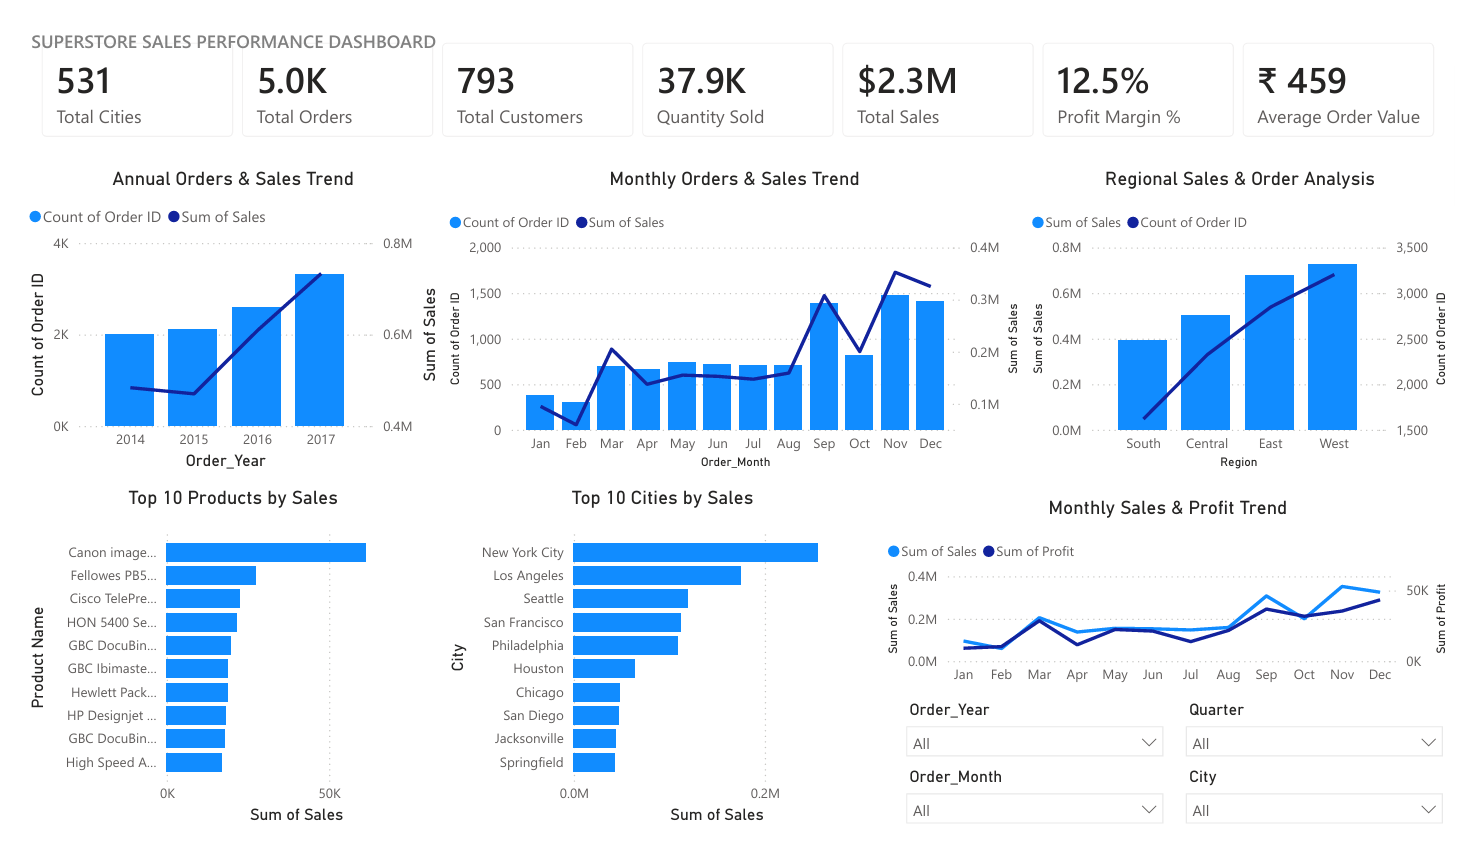

This screenshot's page, from the dashboard's own definition file:
{"tool":"powerbi","page":{"name":"Page 1","canvas":[1280,720],"ordinal":0},"visuals":[{"type":"cardVisual","fields":{"Data":["Sample - Superstore.Total Cities","Sample - Superstore.Total Orders","Sample - Superstore.Total Customers","Sample - Superstore.Total Quantity","Sample - Superstore.Total Sales","Sample - Superstore.Profit Margin %","Sample - Superstore.AOV"]},"box":[0,0,1280.3,118],"z":0},{"type":"lineStackedColumnComboChart","title":"Monthly Orders & Sales Trend","fields":{"Y2":["Sum(Sample - Superstore.Sales)"],"Category":["Sample - Superstore.Order_Month"],"Y":["CountNonNull(Sample - Superstore.Order ID)"]},"box":[376,118,521.4,285.4],"z":1000},{"type":"lineStackedColumnComboChart","title":"Annual Orders & Sales Trend","fields":{"Category":["Sample - Superstore.Order_Year"],"Y2":["Sum(Sample - Superstore.Sales)"],"Y":["CountNonNull(Sample - Superstore.Order ID)"]},"box":[0,118,376,285.4],"z":2000},{"type":"clusteredBarChart","title":"Top 10 Cities by Sales","fields":{"Y":["Sum(Sample - Superstore.Sales)"],"Category":["Sample - Superstore.City"]},"box":[376,403.4,392.5,317],"z":3000},{"type":"clusteredBarChart","title":"Top 10 Products by Sales","fields":{"Category":["Sample - Superstore.Product Name"],"Y":["Sum(Sample - Superstore.Sales)"]},"box":[0,403.4,376,317],"z":4000},{"type":"lineStackedColumnComboChart","title":"Regional Sales & Order Analysis","fields":{"Category":["Sample - Superstore.Region"],"Y":["Sum(Sample - Superstore.Sales)"],"Y2":["CountNonNull(Sample - Superstore.Order ID)"]},"box":[897.4,118,382.8,285.4],"z":5000},{"type":"lineChart","title":"Monthly Sales & Profit Trend","fields":{"Category":["Sample - Superstore.Order_Month"],"Y":["Sum(Sample - Superstore.Sales)"],"Y2":["Sum(Sample - Superstore.Profit)"]},"box":[768.3,411.7,511.7,188.3],"z":6000},{"type":"slicer","fields":{"Values":["Sample - Superstore.Order_Year"]},"box":[780,600,250,60],"z":6000,"group":"g1"},{"type":"slicer","fields":{"Values":["Sample - Superstore.Order_Month"]},"box":[780,660,250,60],"z":7000,"group":"g1"},{"type":"slicer","fields":{"Values":["Sample - Superstore.City"]},"box":[1030,660,250,60],"z":8000,"group":"g1"},{"type":"slicer","fields":{"Values":["Sample - Superstore.Quarter"]},"box":[1030,600,250,60],"z":9000,"group":"g1"},{"type":"group","id":"g1","title":"Group 1","box":[780,600,500,120],"z":9001},{"type":"textbox","box":[0,0,376.7,31.7],"z":9003}]}

Visuals, with their boxes in screenshot pixels (x1, y1, x2, y2), scaled from the page's 1280x720 canvas onto the 1477x856 screenshot:
cardVisual - Sample - Superstore.Total Cities x Sample - Superstore.Total Orders: locate(0, 0, 1476, 140)
"Monthly Orders & Sales Trend" lineStackedColumnComboChart: locate(434, 140, 1036, 480)
"Annual Orders & Sales Trend" lineStackedColumnComboChart: locate(0, 140, 434, 480)
"Top 10 Cities by Sales" clusteredBarChart: locate(434, 480, 887, 855)
"Top 10 Products by Sales" clusteredBarChart: locate(0, 480, 434, 855)
"Regional Sales & Order Analysis" lineStackedColumnComboChart: locate(1036, 140, 1476, 480)
"Monthly Sales & Profit Trend" lineChart: locate(887, 489, 1476, 713)
slicer - Sample - Superstore.Order_Year: locate(900, 713, 1189, 785)
slicer - Sample - Superstore.Order_Month: locate(900, 785, 1189, 855)
slicer - Sample - Superstore.City: locate(1189, 785, 1476, 855)
slicer - Sample - Superstore.Quarter: locate(1189, 713, 1476, 785)
"Group 1" group: locate(900, 713, 1476, 855)
textbox: locate(0, 0, 435, 38)
